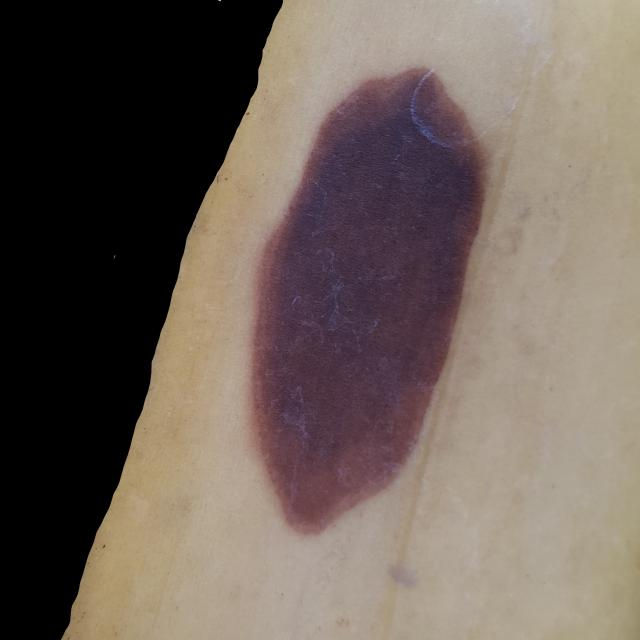mite: (289, 247, 399, 354), (90, 534, 116, 559), (210, 165, 236, 189), (215, 171, 232, 184), (96, 539, 110, 553), (108, 249, 119, 263), (99, 542, 107, 550)
sunburn: (246, 64, 492, 537)
